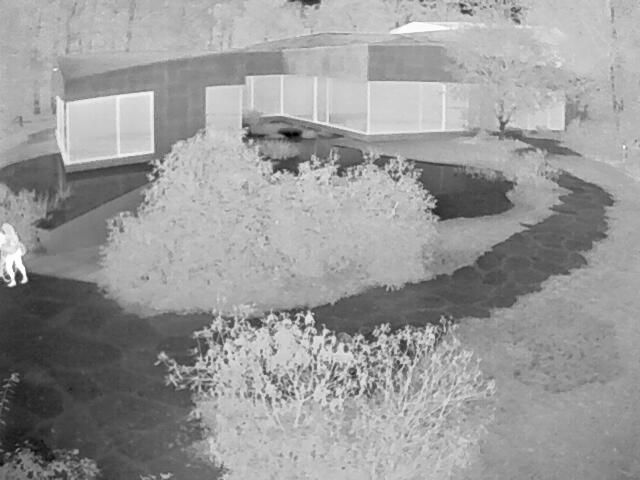person: (0, 224, 27, 287)
